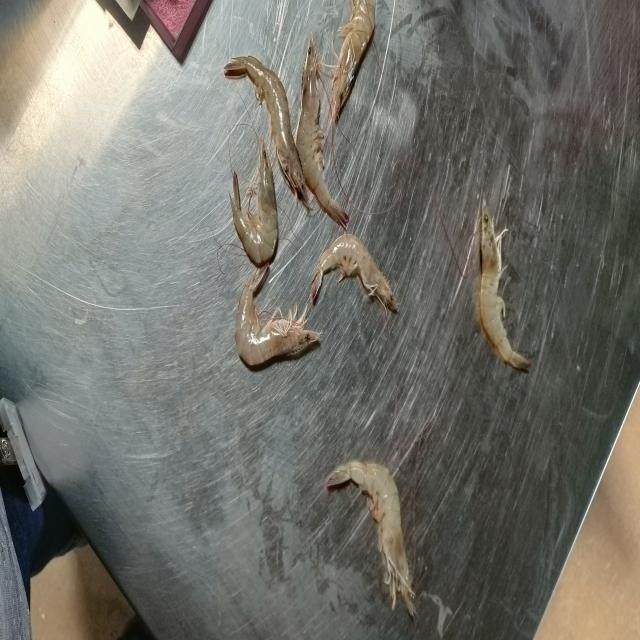shrimp: (326, 460, 415, 615), (224, 55, 309, 210), (295, 35, 349, 228), (480, 201, 531, 370), (235, 266, 319, 365), (311, 235, 399, 317), (230, 139, 279, 268), (330, 0, 375, 122)
